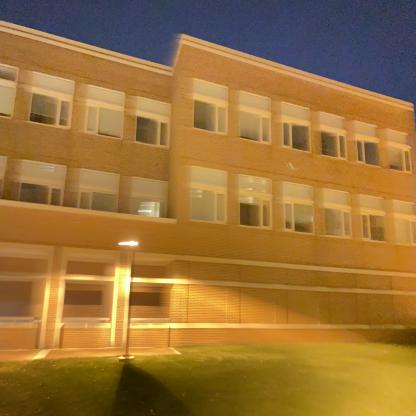eb2: (2, 26, 416, 335)
